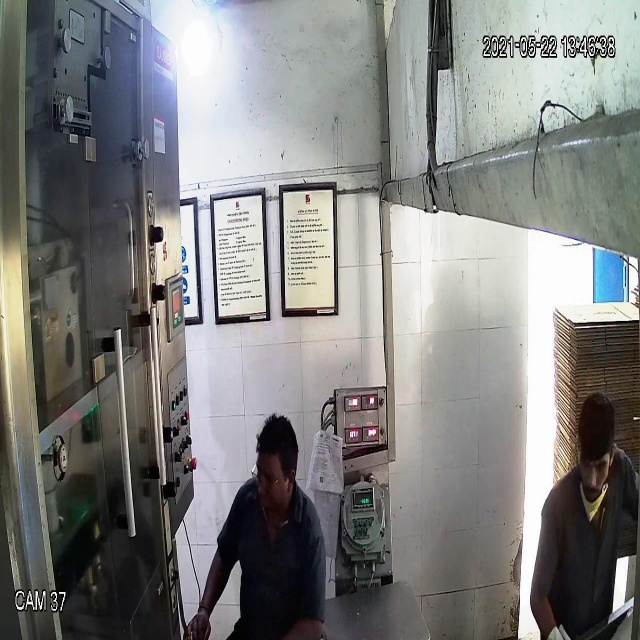Sin_gafas: (572, 452, 612, 480)
